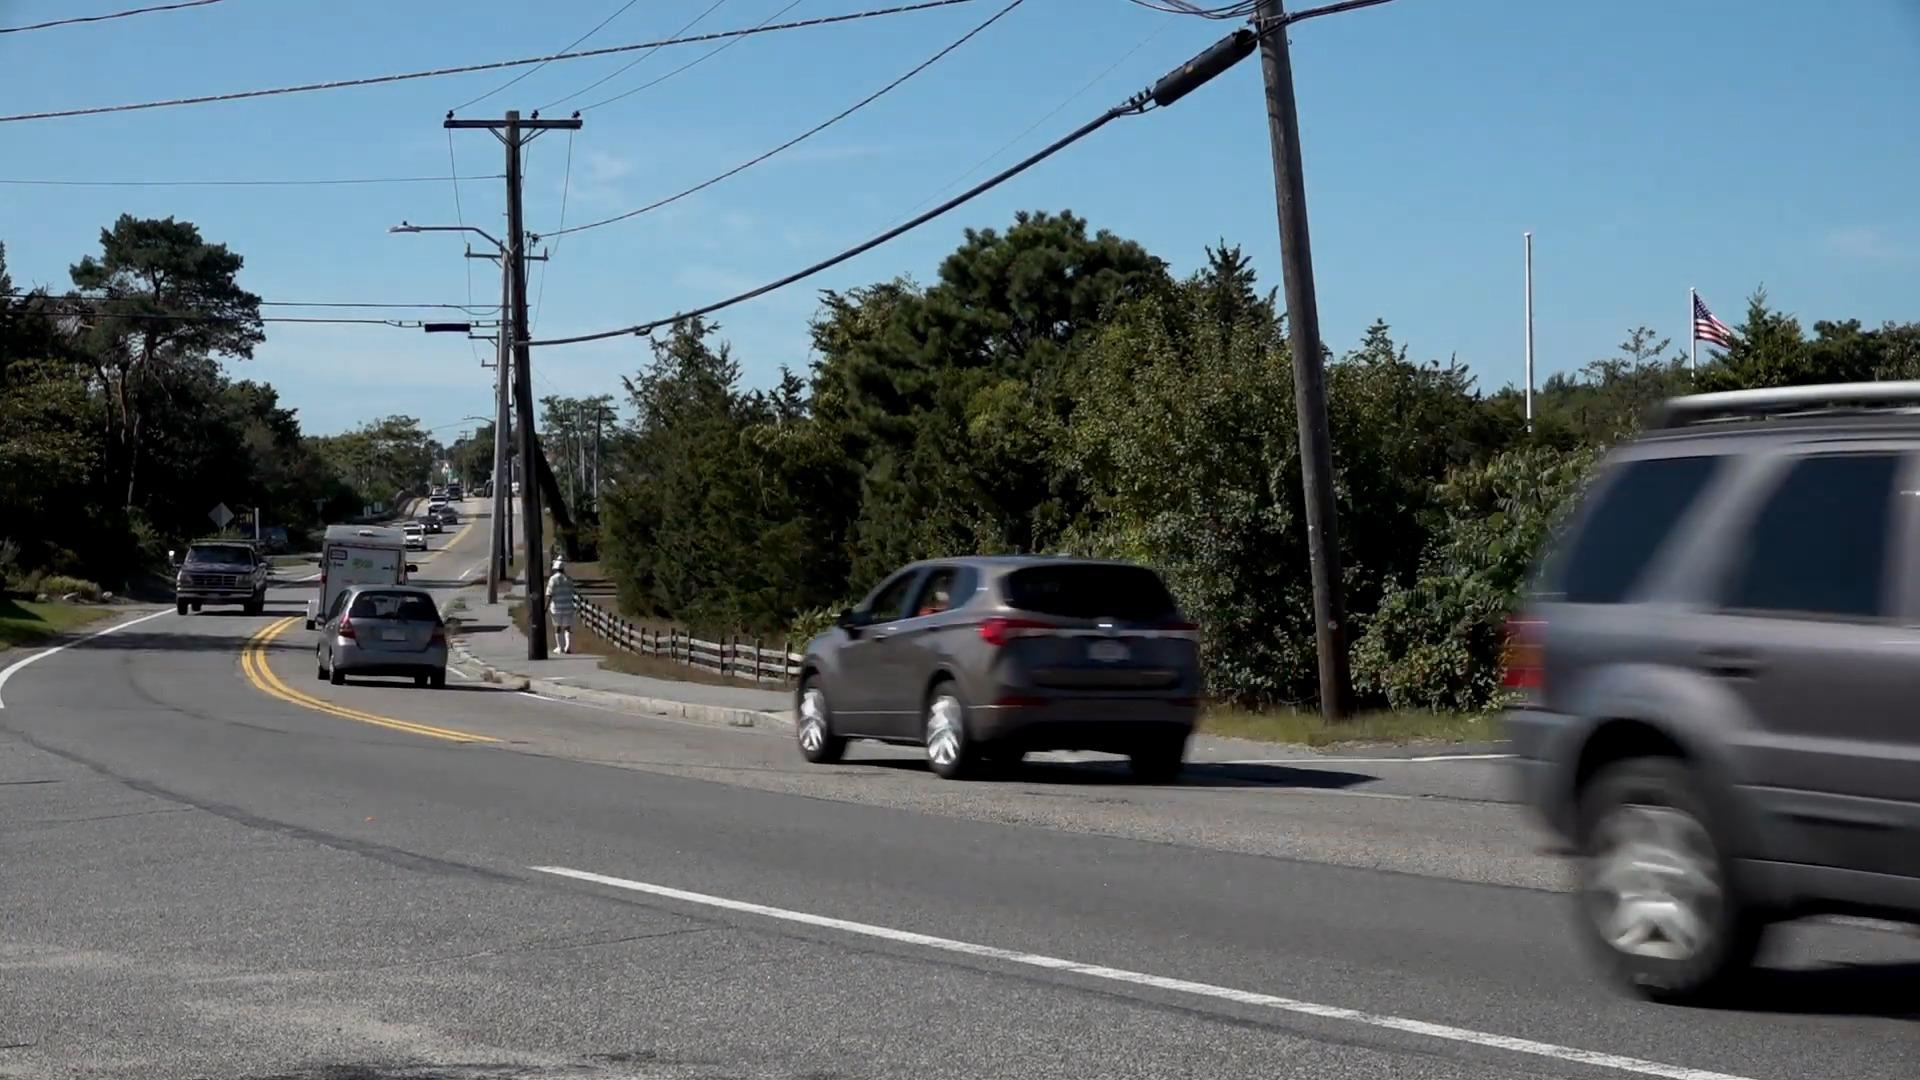pickup: (167, 534, 269, 613)
sedans: (313, 584, 448, 687)
suv: (1502, 390, 1920, 1002), (792, 552, 1203, 775)
